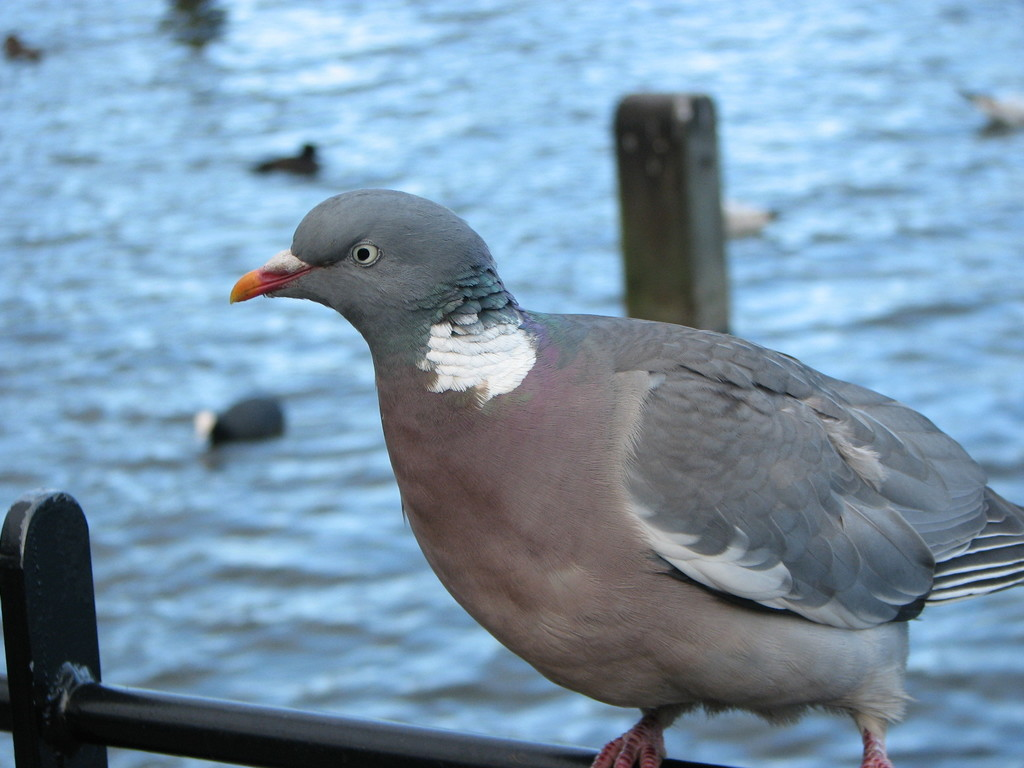person: (248, 138, 325, 179)
